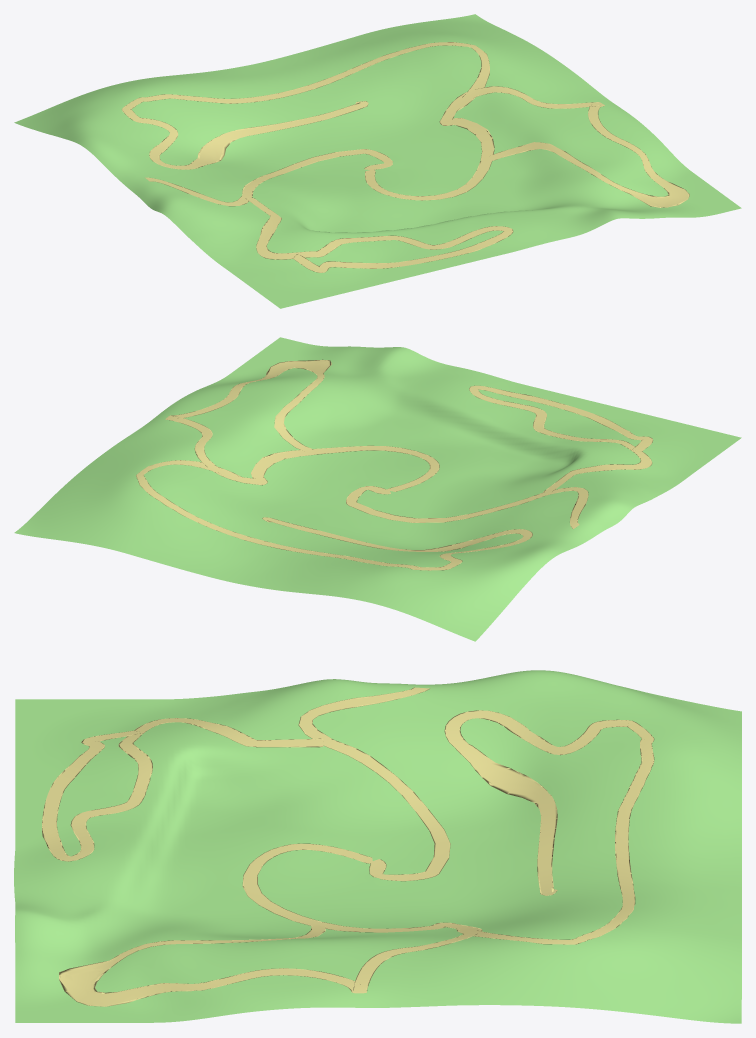
Rendered from parkmesh.fbx.
3 views of the same model, one above another, from view 1: azimuth 30°, elevation 25°; view 2: azimuth 150°, elevation 25°; view 3: azimuth 270°, elevation 25° (orthographic). The views are drawn at different scales.
Parts seen in each view (by area): view 1: Plane; view 2: Plane; view 3: Plane.
Part boxes in pixels (x1,y1,x2,y2): Plane: (14, 14, 741, 308); Plane: (14, 337, 741, 641); Plane: (14, 670, 741, 1023).
Bounding box in the file's own units: 5119 × 378 × 5080.
